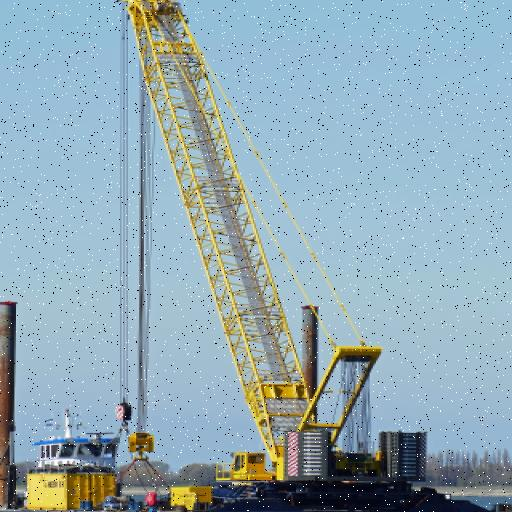tugboat: (1, 417, 512, 512)
